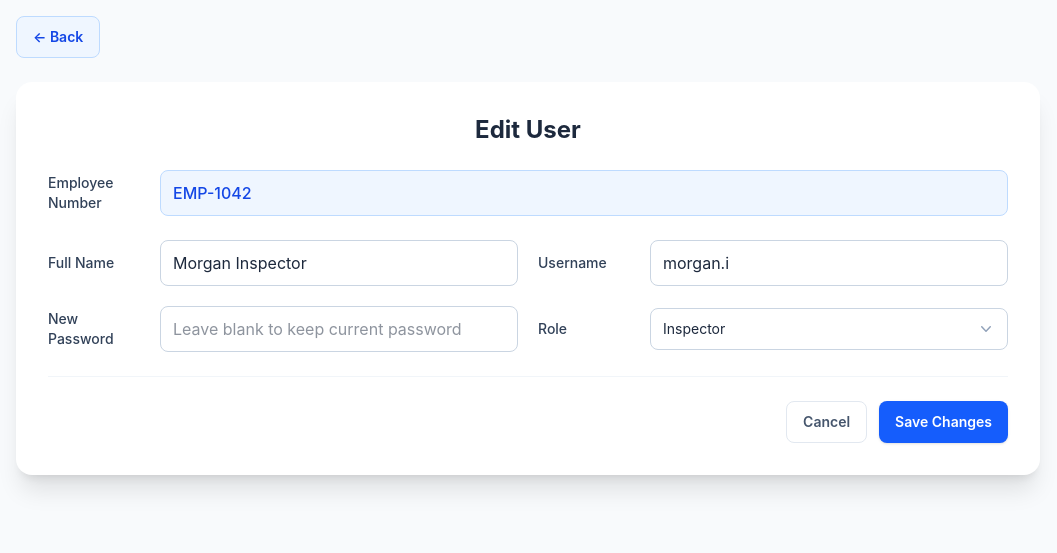
Test: EditUser page › shows an update error and keeps the entered edits on the page
Expected: the heading "Edit User" is shown, top-left (475, 115), bottom-right (581, 144)
Replace the text in the field labelled "Full Name" with "Updated Name": (339, 263) top-left (160, 240), bottom-right (518, 286)
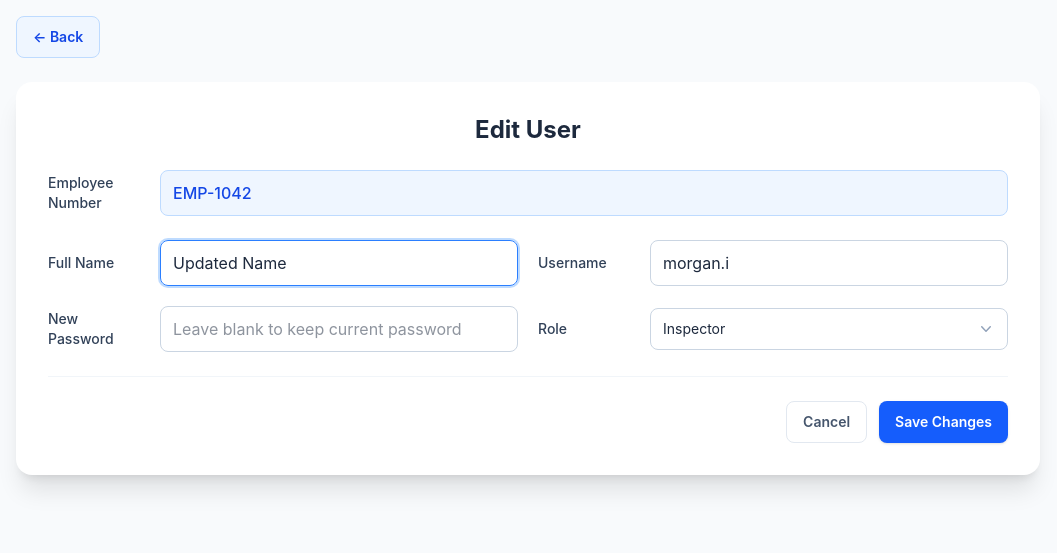
Click the button "Save Changes": (944, 422) top-left (879, 401), bottom-right (1008, 443)
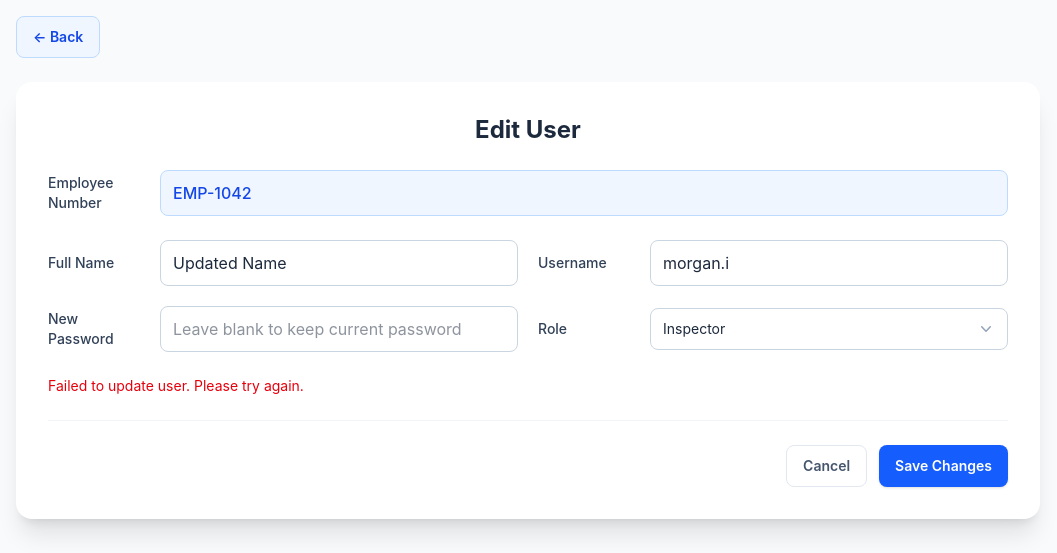
Expected: the button "Save Changes" is enabled, top-left (879, 445), bottom-right (1008, 487)
Expected: the text "Failed to update user. Please try again." is shown, top-left (48, 377), bottom-right (304, 394)
